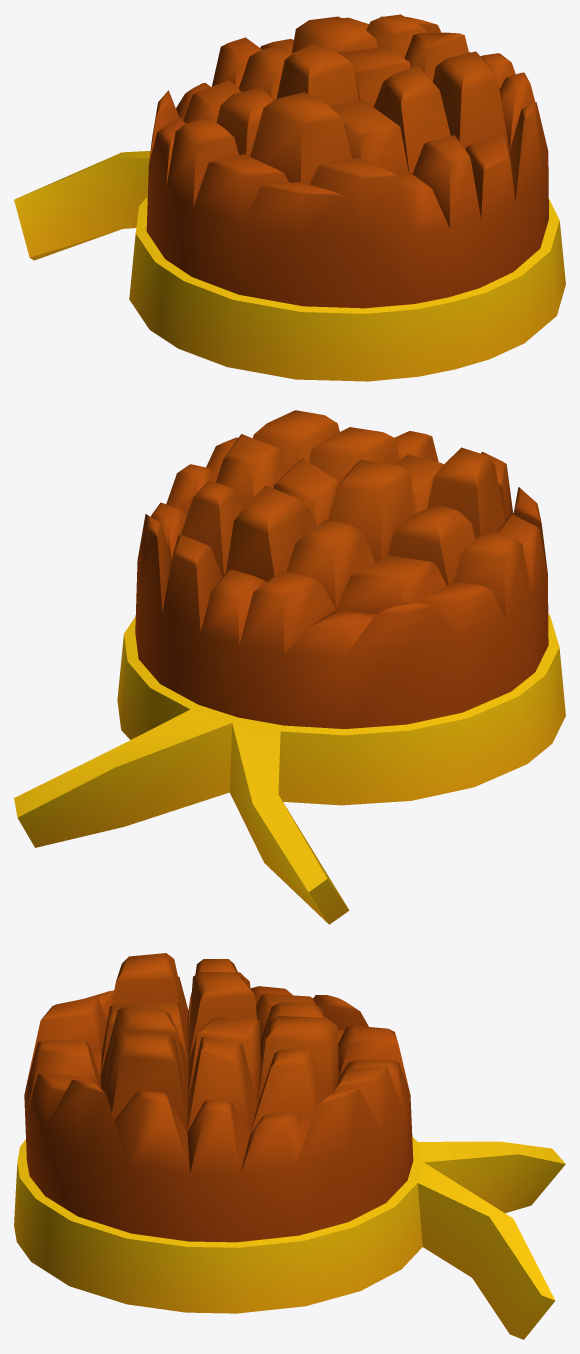
File: rpg_Hat.fbx
3 views of the same model, one above another, from view 1: azimuth 30°, elevation 25°; view 2: azimuth 150°, elevation 25°; view 3: azimuth 270°, elevation 25° (orthographic). The views are drawn at different scales.
Visible parts, largest first — view 1: Stickman_heads_sphere.005; view 2: Stickman_heads_sphere.005; view 3: Stickman_heads_sphere.005.
Boxes of the visible parts, x1,y1,x2,y2 form: Stickman_heads_sphere.005: (14, 14, 565, 381); Stickman_heads_sphere.005: (14, 410, 565, 924); Stickman_heads_sphere.005: (14, 953, 565, 1339).
Bounding box in the file's own units: 0.6338 × 0.4721 × 0.8365.
Materials: 1 (1 with a texture image).
